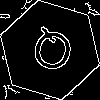Q: (25, 25, 78, 83)
